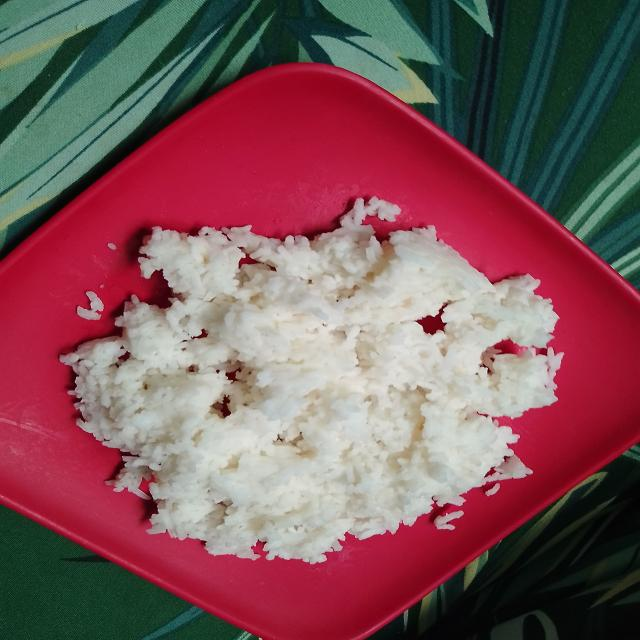Chicken -Chicken Inasal-: (62, 224, 537, 559)
